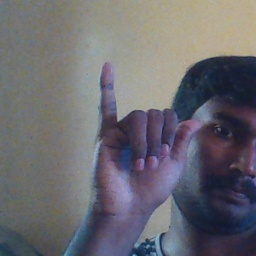J: (89, 60, 205, 222)
